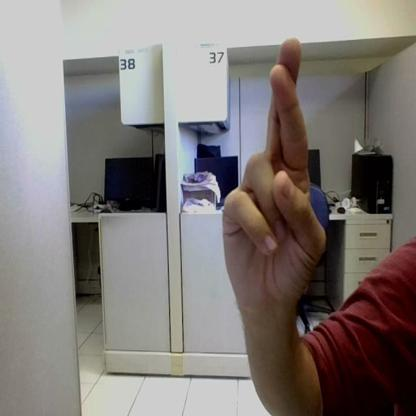R: (226, 39, 325, 299)
